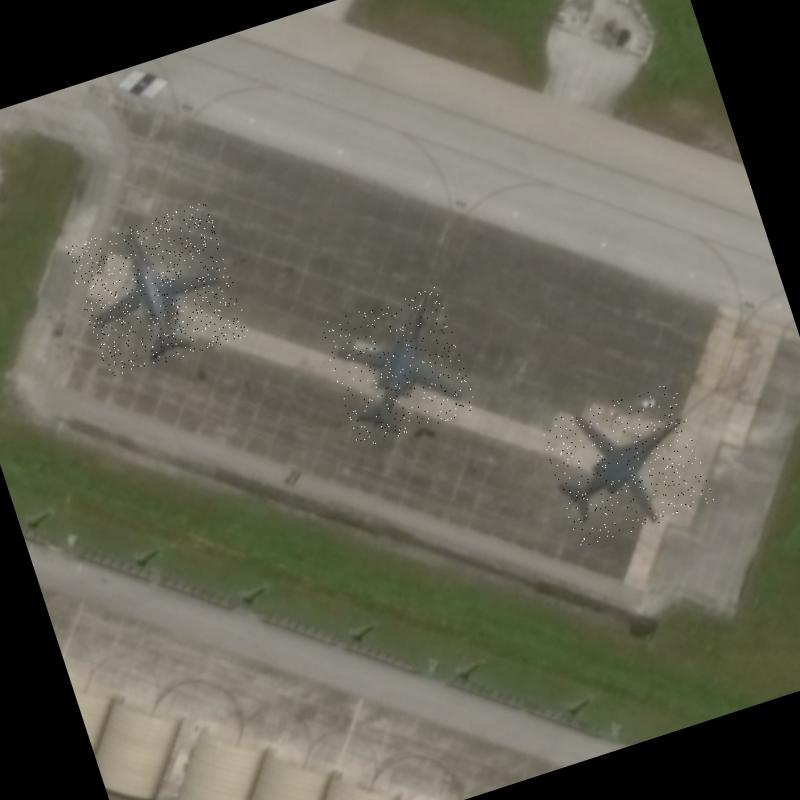A10: (64, 201, 250, 381), (538, 380, 715, 549), (319, 286, 478, 449)
